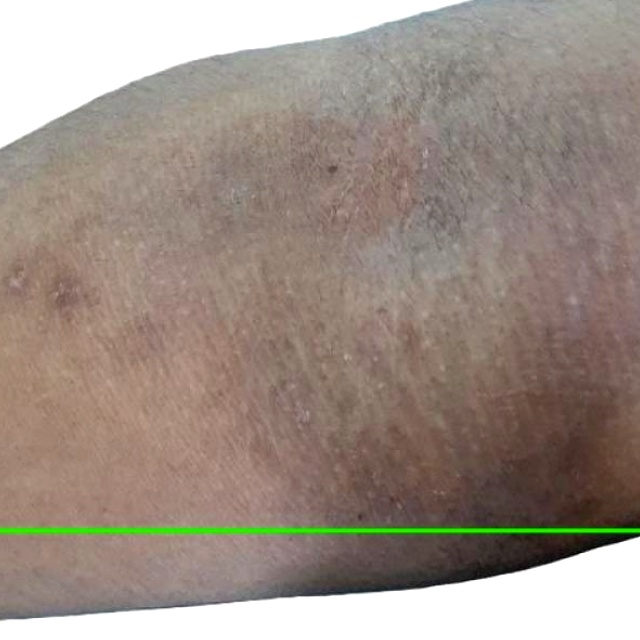Contact Dermatitis: (0, 530, 639, 639)
